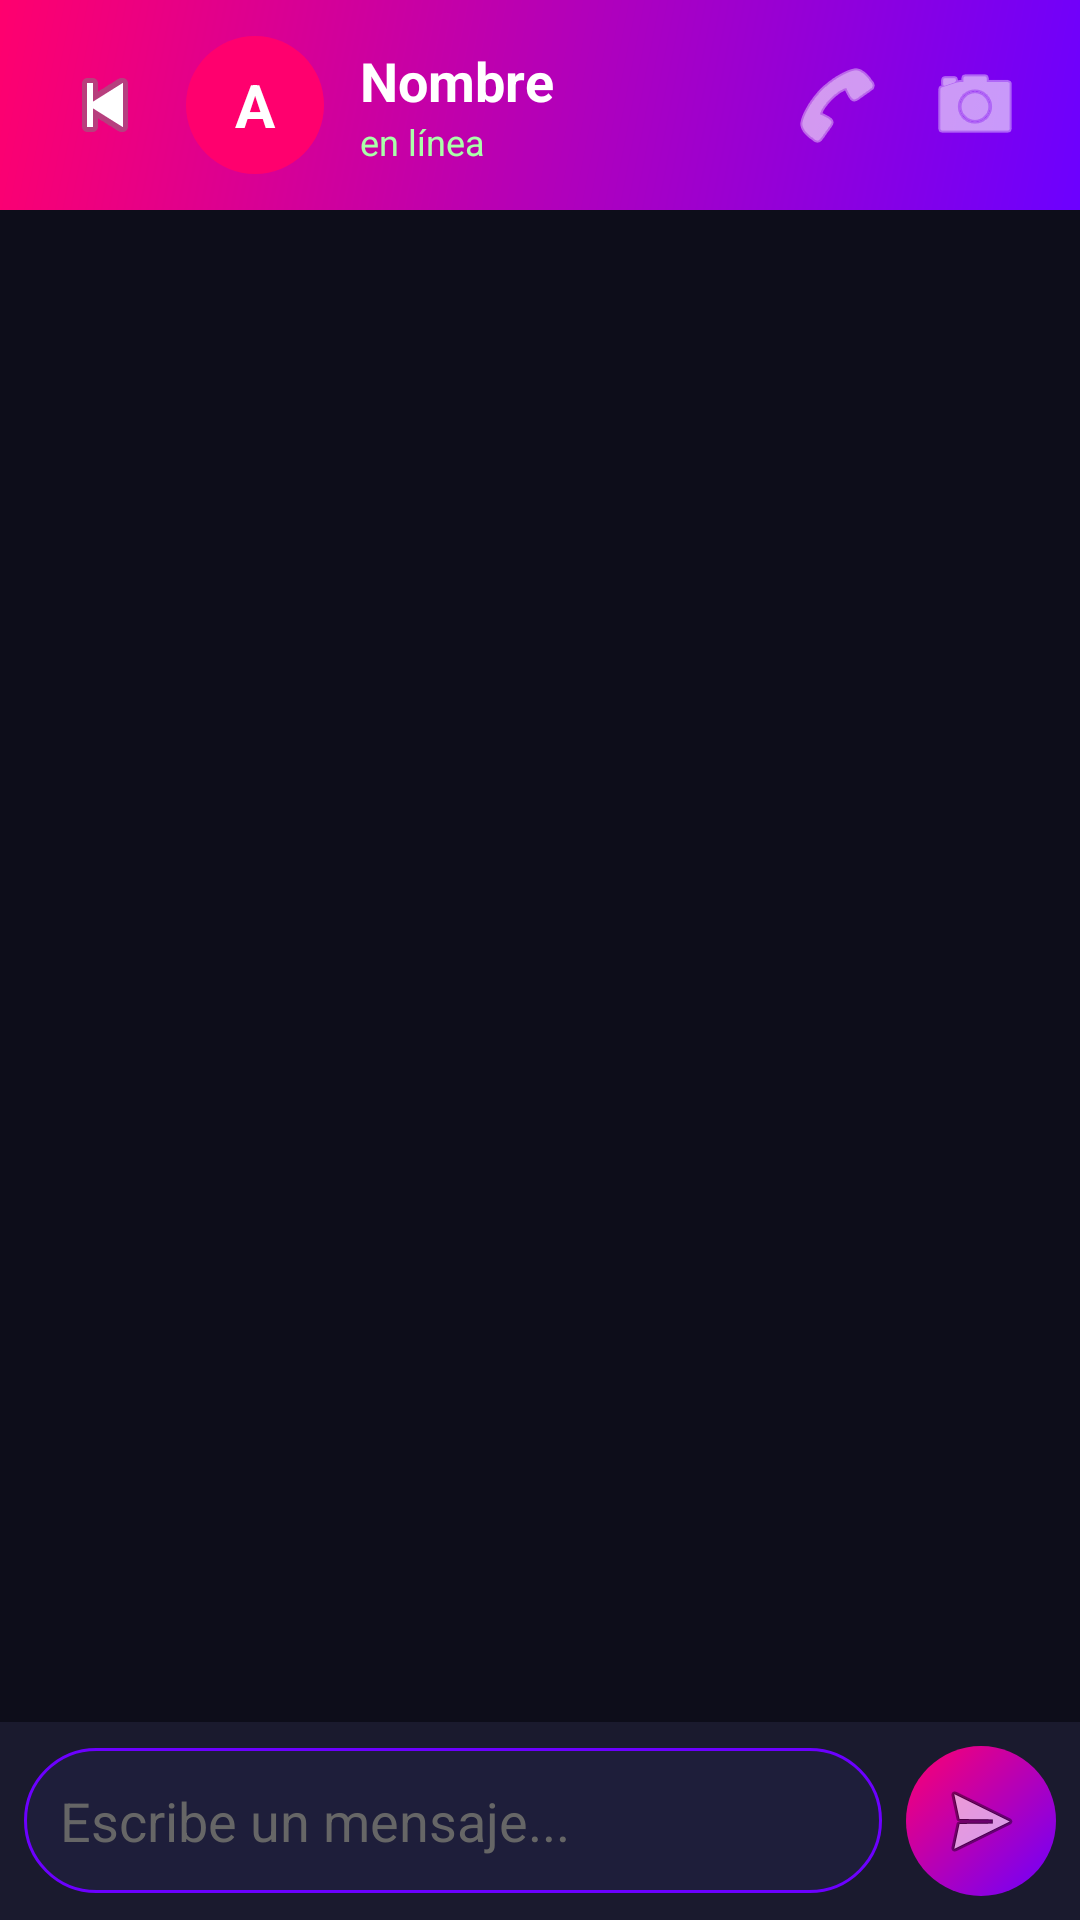

Icon bounding boxes for this 1080px×1920px phone screenshot, format (x1, y1, x2, y2):
call: (800, 48, 894, 162)
camera: (938, 74, 1012, 133)
previous: (82, 78, 128, 132)
send: (906, 1746, 1056, 1896)
